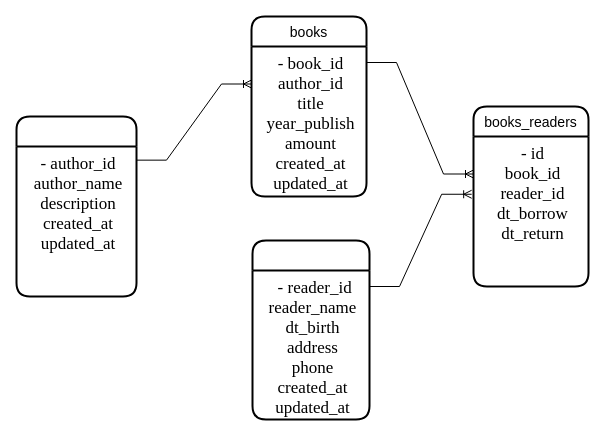
Some shapes in this 605 by 436 pixel diagram are drawn without their labels. The box of each missing label's shape, as (x1, y1, x2, y2) in pixels:
authors: (15, 115, 137, 297)
readers: (251, 239, 370, 420)
